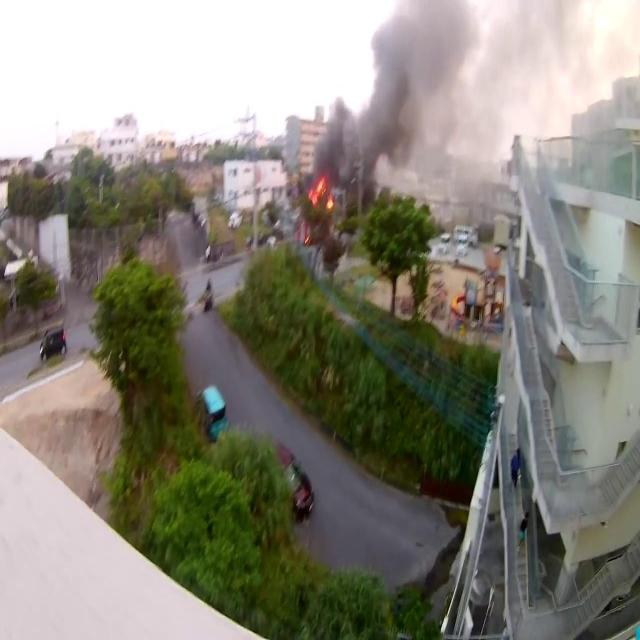Fire: (309, 178, 333, 209)
